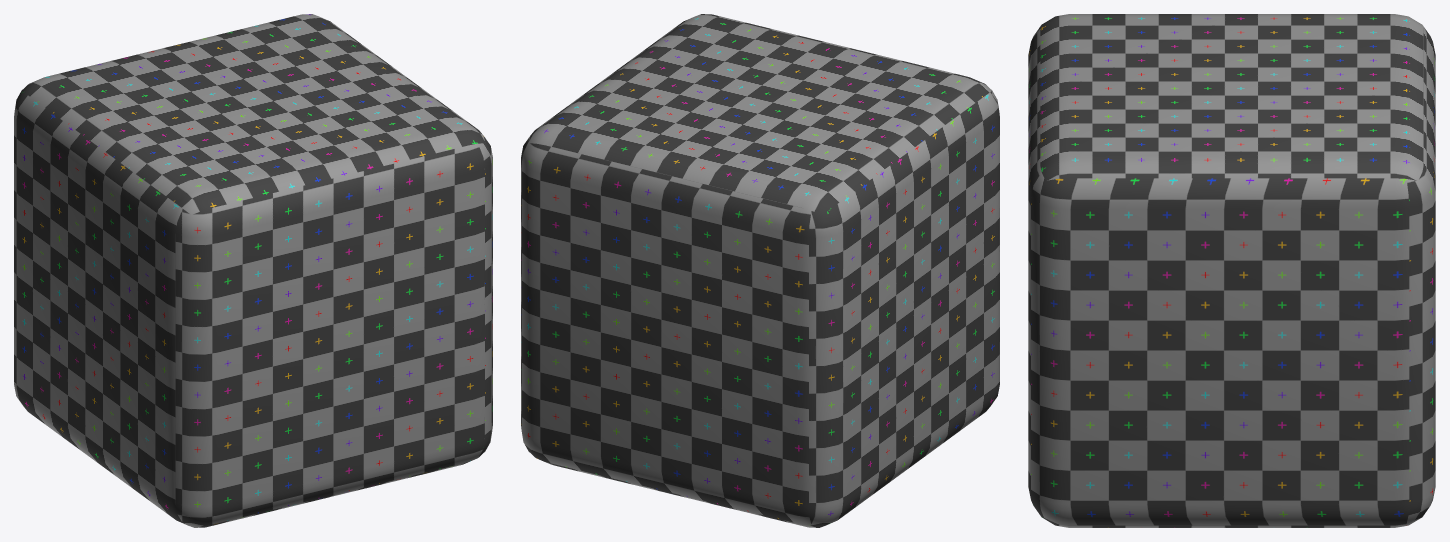
The model's file is roundcube_uv.gltf.
3 views of the same model, side by side, from view 1: azimuth 30°, elevation 25°; view 2: azimuth 150°, elevation 25°; view 3: azimuth 270°, elevation 25° (orthographic). The views are drawn at different scales.
Visible parts, largest first — view 1: Roundcube; view 2: Roundcube; view 3: Roundcube.
Boxes of the visible parts, x1,y1,x2,y2 form: Roundcube: [14, 14, 492, 527]; Roundcube: [521, 14, 999, 527]; Roundcube: [1028, 14, 1435, 527].
Size of the model in its own units: 2 by 2 by 2.
Materials: 1 (1 with a texture image).
